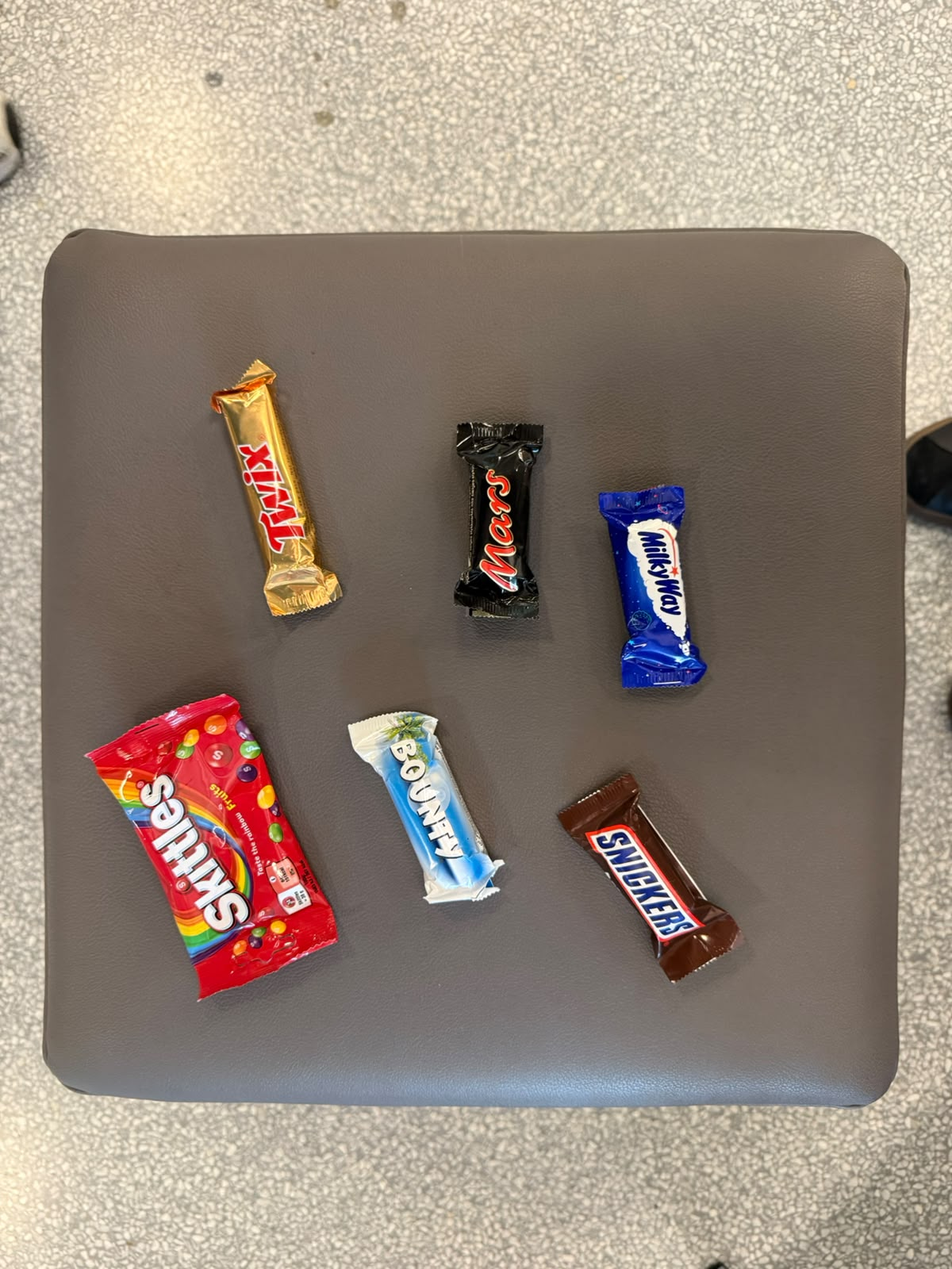Bounty: (346, 723, 436, 925)
Mars: (449, 410, 542, 633)
MilkyWay: (597, 478, 712, 699)
Skittles: (70, 729, 261, 1033)
Snickers: (619, 745, 859, 830)
Twix: (182, 380, 265, 633)
